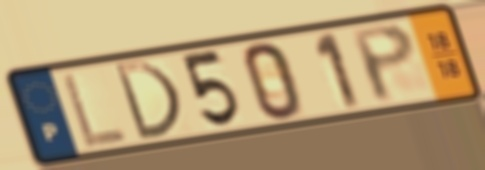0: (240, 39, 305, 122)
1: (312, 29, 365, 112)
5: (179, 46, 242, 131)
D: (110, 59, 185, 143)
L: (58, 69, 131, 151)
P: (346, 20, 418, 106)
